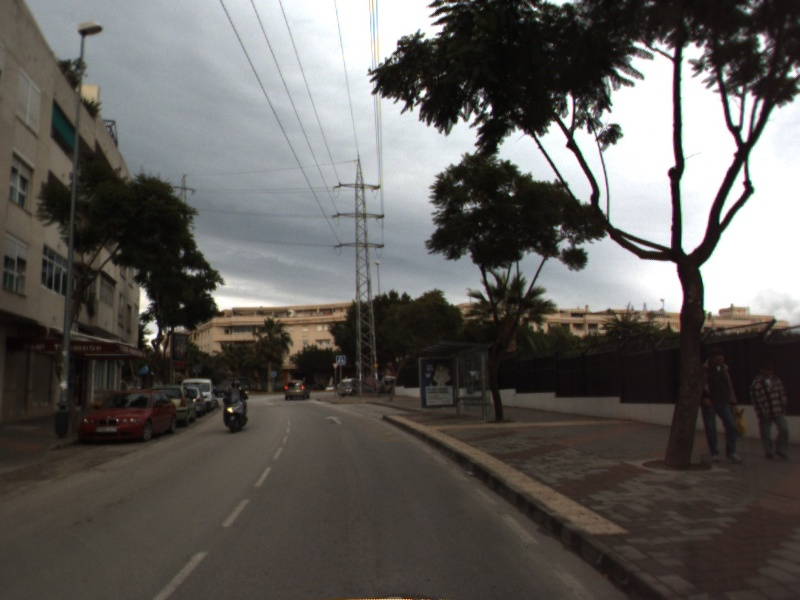STRAIGHT: (323, 413, 345, 426)
